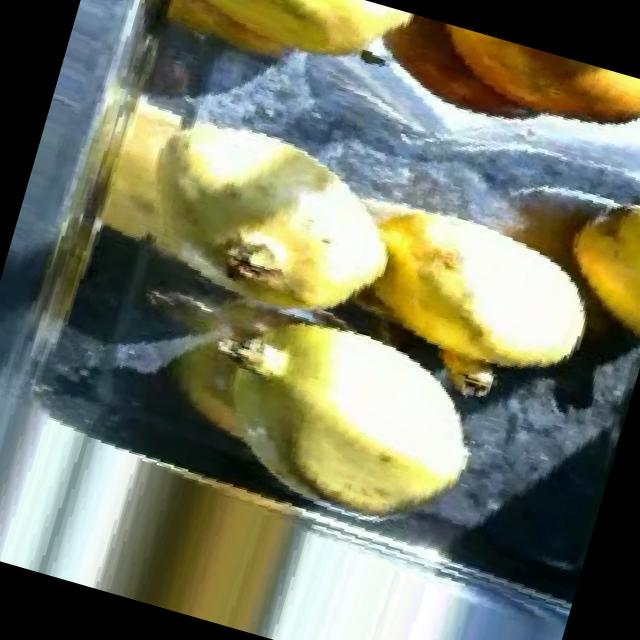fruit: (322, 180, 631, 450), (166, 111, 438, 367), (418, 21, 640, 166), (235, 0, 439, 102), (534, 161, 640, 352)
